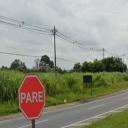Pare: (17, 71, 47, 123)
